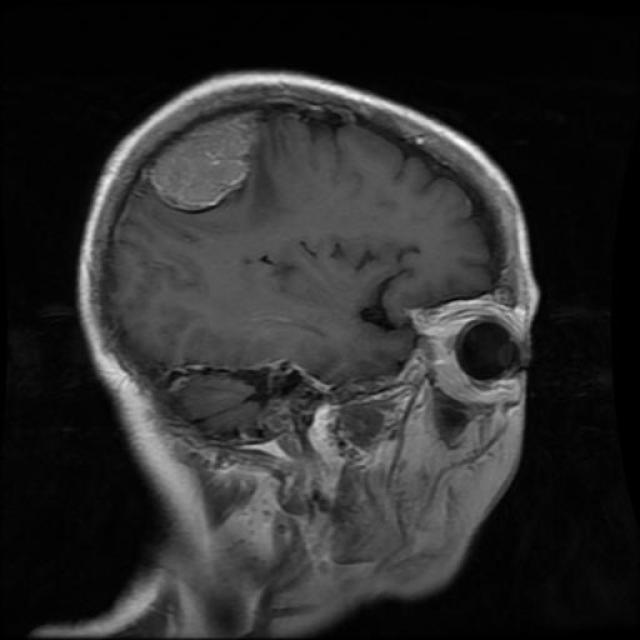meningioma: (150, 112, 259, 209)
